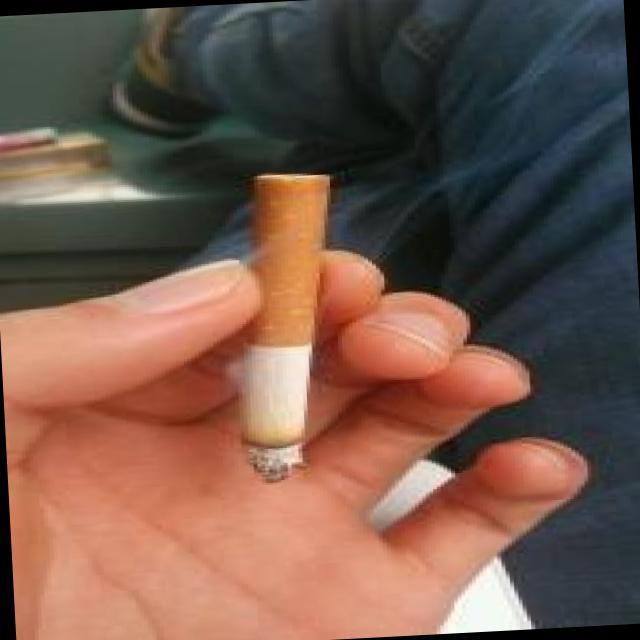cigarette: (220, 158, 346, 492)
